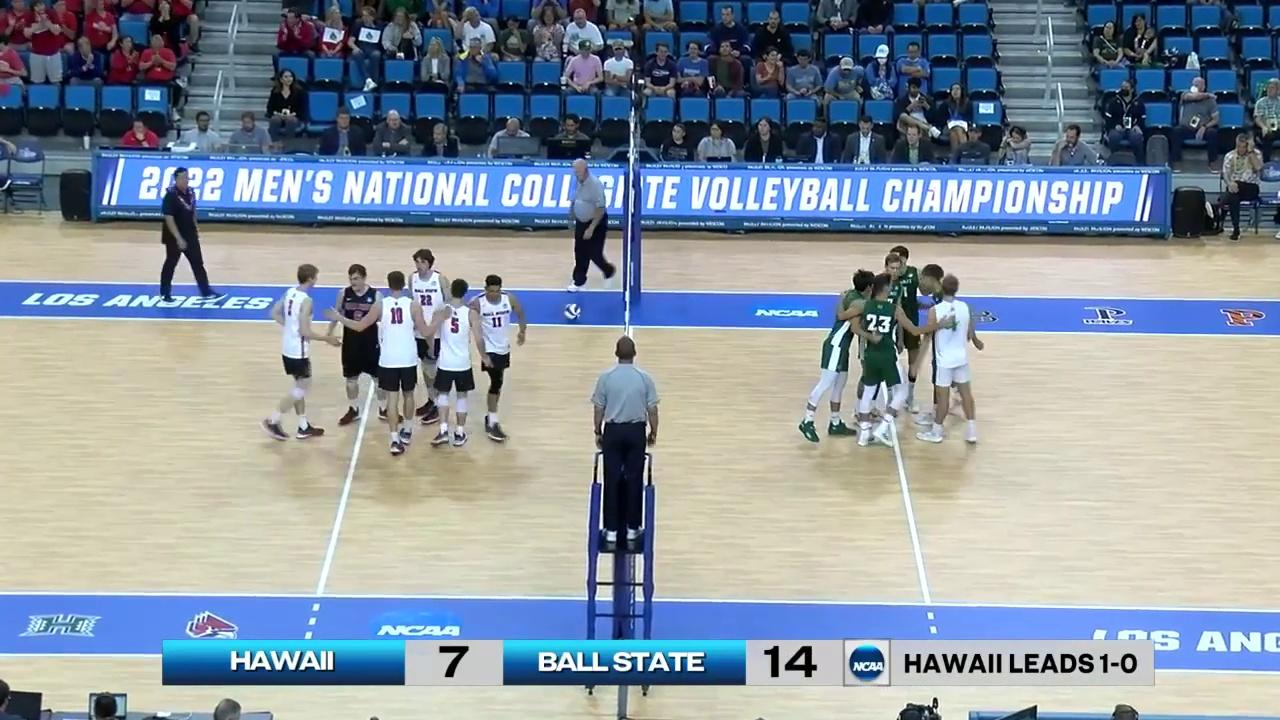player: (800, 266, 874, 447), (367, 272, 426, 456), (923, 276, 984, 449), (268, 262, 327, 436), (467, 276, 526, 444), (850, 274, 906, 448), (424, 281, 478, 448), (405, 250, 453, 421), (337, 262, 385, 431), (859, 256, 904, 427), (919, 266, 967, 422), (887, 246, 926, 408)
refree: (591, 338, 660, 536), (564, 159, 618, 291)
